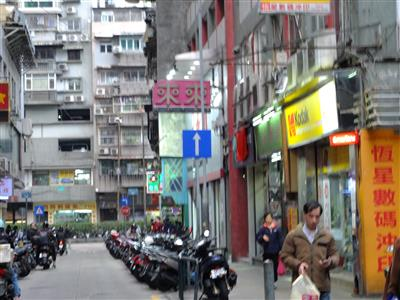leftTurnOnly: (119, 195, 131, 207)
oneway: (179, 126, 214, 160)
pedestrianCrossing: (31, 201, 45, 215)
stop: (118, 205, 130, 216)
